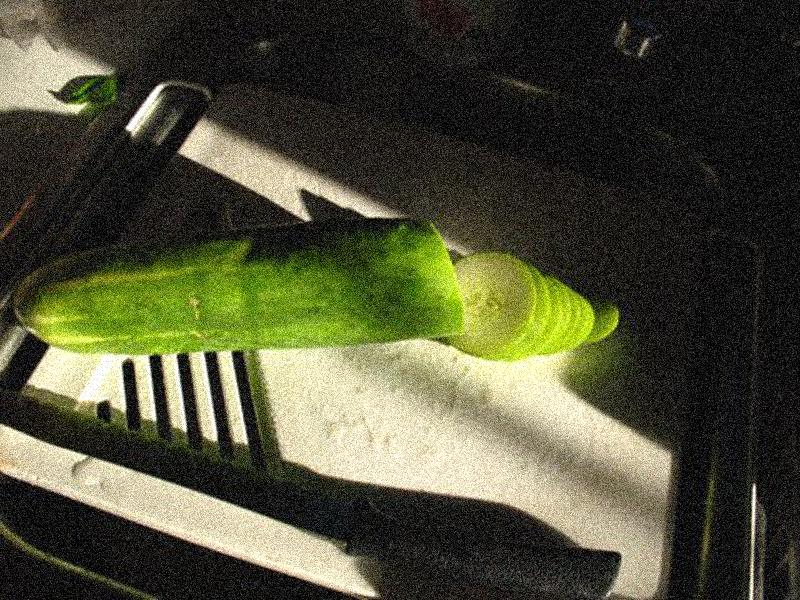Cucumber: (13, 218, 467, 355)
